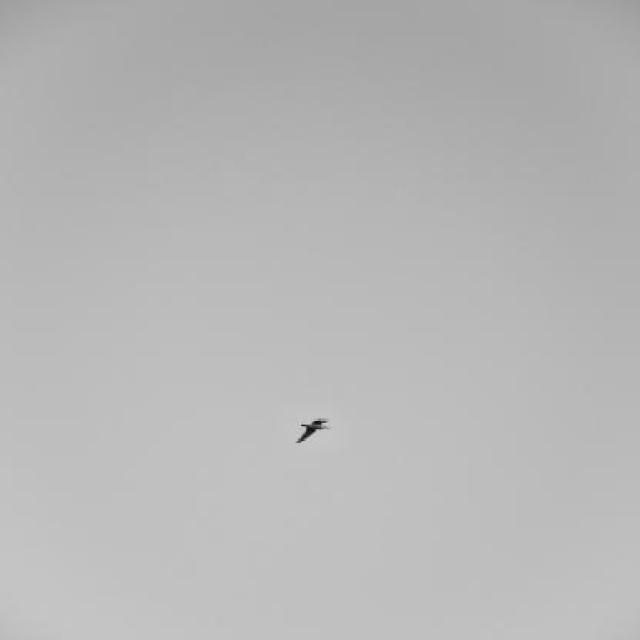bird: (294, 418, 332, 444)
